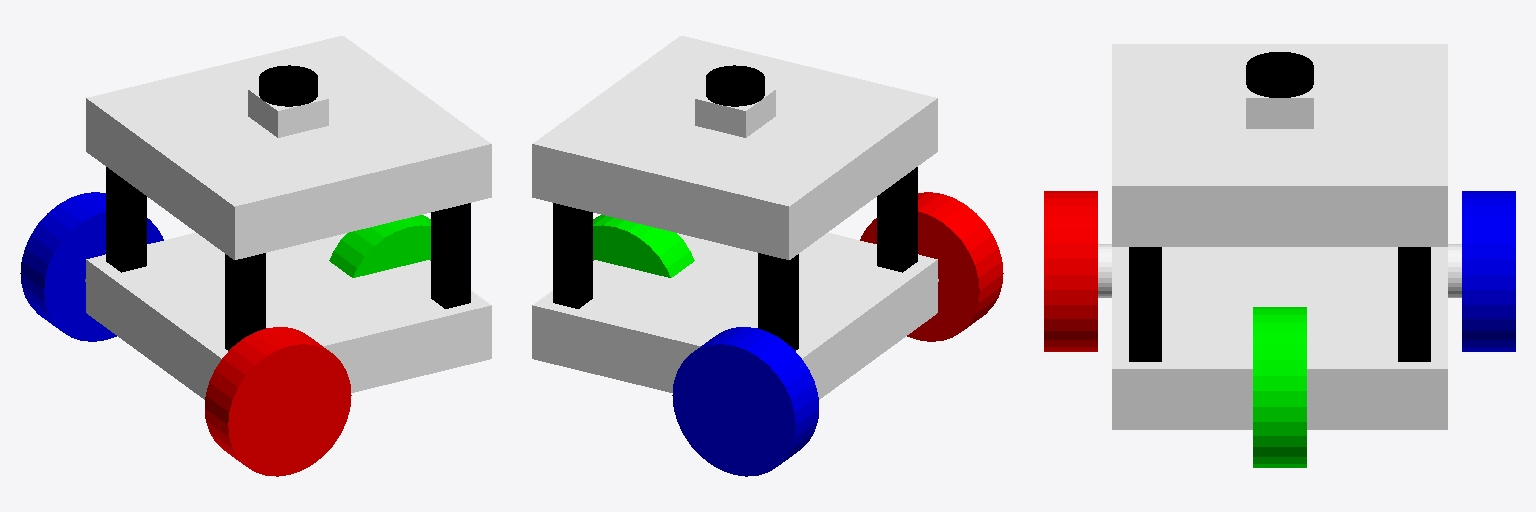
The robot description file, URDF, robot "kk_robot":
<?xml version="1.0" ?>
<robot name="kk_robot">
<!--  base 测试 -->
    <link name="base_link">
        <visual>
            <geometry>
                <box size="0.5 0.5 0.1"/>
            </geometry>
            <material name="white">
                <color rgba="1 1 1 1"/>
            </material>
            <origin xyz="0 0 0" rpy="0 0 0"/>
        </visual>
    </link>
    <!--  upper_base_link  -->
    <link name="upper_base_link">
        <visual>
            <geometry>
                <box size="0.5 0.5 0.1"/>
            </geometry>
            <material name="white">
                <color rgba="1 1 1 1"/>
            </material>
            <origin xyz="0 0 0" rpy="0 0 0"/>
        </visual>
    </link>

    <!--  base and upper base joint;fixed  -->
    <joint name="base_upper_base_joint" type="fixed">
        <parent link="base_link"/>
        <child link="upper_base_link"/>
        <origin xyz="0 0 0.3" rpy="0 0 0"/>
    </joint>
    <!--  fl_support_link  -->
    <link name="fl_support_link">
        <visual>
            <geometry>
                <box size="0.05 0.05 0.3"/>
            </geometry>
            <material name="black">
                <color rgba="0 0 0 1"/>
            </material>
            <origin xyz="0 0 0.15" rpy="0 0 0"/>
        </visual>
    </link>
    <!--  base and fl support joint;fixed  -->
    <joint name="base_fl_support_joint" type="fixed">
        <parent link="base_link"/>
        <child link="fl_support_link"/>
        <origin xyz="0.2 0.2 0" rpy="0 0 0"/>
    </joint>
    <!--  fr_support_link  -->
    <link name="fr_support_link">
        <visual>
            <geometry>
                <box size="0.05 0.05 0.3"/>
            </geometry>
            <material name="black">
                <color rgba="0 0 0 1"/>
            </material>
            <origin xyz="0 0 0.15" rpy="0 0 0"/>
        </visual>
    </link>
    <!--  base and fr support joint;fixed  -->
    <joint name="base_fr_support_joint" type="fixed">
        <parent link="base_link"/>
        <child link="fr_support_link"/>
        <origin xyz="0.2 -0.2 0" rpy="0 0 0"/>
    </joint>
    <!--  rf_support_link  -->
    <link name="rf_support_link">
        <visual>
            <geometry>
                <box size="0.05 0.05 0.3"/>
            </geometry>
            <material name="black">
                <color rgba="0 0 0 1"/>
            </material>
            <origin xyz="0 0 0.15" rpy="0 0 0"/>
        </visual>
    </link>
    <!--  base and rf support joint;fixed  -->
    <joint name="base_rf_support_joint" type="fixed">
        <parent link="base_link"/>
        <child link="rf_support_link"/>
        <origin xyz="-0.2 0.2 0" rpy="0 0 0"/>
    </joint>
    <!--  rr_support_link  -->
    <link name="rr_support_link">
        <visual>
            <geometry>
                <box size="0.05 0.05 0.3"/>
            </geometry>
            <material name="black">
                <color rgba="0 0 0 1"/>
            </material>
            <origin xyz="0 0 0.15" rpy="0 0 0"/>
        </visual>
    </link>
    <!--  base and rr support joint;fixed  -->
    <joint name="base_rr_support_joint" type="fixed">
        <parent link="base_link"/>
        <child link="rr_support_link"/>
        <origin xyz="-0.2 -0.2 0" rpy="0 0 0"/>
    </joint>
    <!--  kinect_link  -->
    <link name="kinect_link">
        <visual>
            <geometry>
                <mesh filename="package://kbot_description/meshes/kinect.dae"/>
            </geometry>
            <origin xyz="0 0 0" rpy="0 0 1.5708"/>
        </visual>
    </link>
    <!--  upper base and kinect joint;fixed  -->
    <joint name="upper_base_kinect_joint" type="fixed">
        <parent link="upper_base_link"/>
        <child link="kinect_link"/>
        <origin xyz="0.2 0 0.08" rpy="0 0 0"/>
    </joint>
    <!--  lidar base  -->
    <link name="lidar_base_link">
        <visual>
            <geometry>
                <box size="0.1 0.1 0.1"/>
            </geometry>
            <material name="white">
                <color rgba="1 1 1 1"/>
            </material>
            <origin xyz="0 0 0.05" rpy="0 0 0"/>
        </visual>
    </link>
    <!--  upper base and lidar base joint;fixed  -->
    <joint name="upper_base_lidar_base_joint" type="fixed">
        <parent link="upper_base_link"/>
        <child link="lidar_base_link"/>
        <origin xyz="0 0 0" rpy="0 0 0"/>
    </joint>
    <!--  lidar  -->
    <link name="lidar_link">
        <visual>
            <geometry>
                <cylinder length="0.08" radius="0.05"/>
            </geometry>
            <material name="black">
                <color rgba="0 0 0 1"/>
            </material>
            <origin xyz="0 0 0.04" rpy="0 0 0"/>
        </visual>
    </link>
    <!--  lidar base and lidar joint;fixed  -->
    <joint name="base_lidar_lidar_joint" type="fixed">
        <parent link="lidar_base_link"/>
        <child link="lidar_link"/>
        <origin xyz="0 0 0.05" rpy="0 0 0"/>
    </joint>
    <!--  real axle  -->
    <link name="rear_axle_link">
        <visual>
            <geometry>
                <cylinder length="0.54" radius="0.04"/>
            </geometry>
            <material name="white">
                <color rgba="1 1 1 1"/>
            </material>
            <origin xyz="0 0 0" rpy="1.5707 0 0"/>
        </visual>
    </link>
    <!--  base and rear axle joint;fixed  -->
    <joint name="base_rear_axle_joint" type="fixed">
        <parent link="base_link"/>
        <child link="rear_axle_link"/>
        <origin xyz="-0.2 0 0" rpy="0 0 0"/>
    </joint>
    <!--  rr wheel  -->
    <link name="rr_wheel_link">
        <visual>
            <geometry>
                <cylinder length="0.08" radius="0.12"/>
            </geometry>
            <material name="red">
                <color rgba="1 0 0 0.9"/>
            </material>
            <origin xyz="0 -0.04 0" rpy="1.5707 0 0"/>
        </visual>
    </link>
    <!--  rear axle and rr wheel joint;continuous  -->
    <joint name="base_rr_while_joint" type="continuous">
        <origin xyz="0 -0.27 0" rpy="0 0 0"/>
        <parent link="rear_axle_link"/>
        <child link="rr_wheel_link"/>
        <axis xyz="0 1 0"/>
    </joint>
    <!--  rl wheel  -->
    <link name="rl_wheel_link">
        <visual>
            <geometry>
                <cylinder length="0.08" radius="0.12"/>
            </geometry>
            <material name="blue">
                <color rgba="0 0 1 0.9"/>
            </material>
            <origin xyz="0 0.04 0" rpy="1.5707 0 0"/>
        </visual>
    </link>
    <!--  rear axle and rl wheel joint;continuous  -->
    <joint name="base_rl_while_joint" type="continuous">
        <origin xyz="0 0.27 0" rpy="0 0 0"/>
        <parent link="rear_axle_link"/>
        <child link="rl_wheel_link"/>
        <axis xyz="0 1 0"/>
    </joint>
    <!--  font wheel  -->
    <link name="font_wheel_link">
        <visual>
            <geometry>
                <cylinder length="0.08" radius="0.12"/>
            </geometry>
            <material name="green">
                <color rgba="0 1 0 0.9"/>
            </material>
            <origin xyz="0 0 0" rpy="1.5707 0 0"/>
        </visual>
    </link>
    <!--  base and font wheel joint;revolute  -->
    <joint name="base_font_while_joint" type="revolute">
        <origin xyz="0.21 0 0" rpy="0 0 0"/>
        <parent link="base_link"/>
        <child link="font_wheel_link"/>
        <axis xyz="0 0 1"/>
        <limit lower="-0.5236" upper="0.5236" effort="1.0" velocity="1.0"/>
    </joint>
</robot>

--- What the picture shows (computed from the rendered views, not written in the file) ---
3 views of the same robot in one strip: view 1: azimuth 30°, elevation 25°; view 2: azimuth 150°, elevation 25°; view 3: azimuth 270°, elevation 25° (orthographic).
Robot: kk_robot — 13 links, 12 joints (1 revolute, 2 continuous, 9 fixed); root link base_link; default pose: all joints at 0.
Visible links, largest first — view 1: upper_base_link, base_link, rr_wheel_link, rl_wheel_link, font_wheel_link, fr_support_link, rf_support_link, rr_support_link, lidar_base_link, lidar_link; view 2: upper_base_link, base_link, rl_wheel_link, rr_wheel_link, font_wheel_link, fl_support_link, rr_support_link, rf_support_link, lidar_base_link, lidar_link; view 3: upper_base_link, base_link, rr_wheel_link, rl_wheel_link, font_wheel_link, fl_support_link, fr_support_link, lidar_link, lidar_base_link, rear_axle_link.
Boxes of the visible links, box(x1,y1,x2,y2) form: upper_base_link: box(86, 36, 491, 259); base_link: box(86, 233, 491, 399); rr_wheel_link: box(205, 327, 351, 476); rl_wheel_link: box(20, 192, 163, 341); font_wheel_link: box(329, 215, 430, 277); fr_support_link: box(431, 203, 470, 308); rf_support_link: box(106, 167, 146, 272); rr_support_link: box(225, 253, 265, 350); lidar_base_link: box(248, 87, 328, 137); lidar_link: box(259, 65, 317, 106); upper_base_link: box(532, 36, 937, 259); base_link: box(532, 233, 937, 399); rl_wheel_link: box(672, 327, 818, 476); rr_wheel_link: box(860, 192, 1003, 341); font_wheel_link: box(593, 215, 694, 277); fl_support_link: box(553, 203, 592, 308); rr_support_link: box(877, 167, 917, 272); rf_support_link: box(758, 253, 798, 350); lidar_base_link: box(695, 87, 775, 137); lidar_link: box(706, 65, 764, 106); upper_base_link: box(1112, 44, 1447, 246); base_link: box(1112, 247, 1447, 429); rr_wheel_link: box(1044, 191, 1097, 351); rl_wheel_link: box(1462, 191, 1515, 351); font_wheel_link: box(1253, 307, 1306, 467); fl_support_link: box(1398, 247, 1430, 361); fr_support_link: box(1129, 247, 1161, 361); lidar_link: box(1246, 52, 1313, 97); lidar_base_link: box(1246, 85, 1313, 128); rear_axle_link: box(1098, 244, 1461, 297).
Bounding box of the posed robot: 0.65 × 0.7 × 0.55 m (x, y, z).
0 mesh visuals loaded from 1 distinct referenced files (none loaded); not drawn: 1 (reference not matched to a file when rendering).